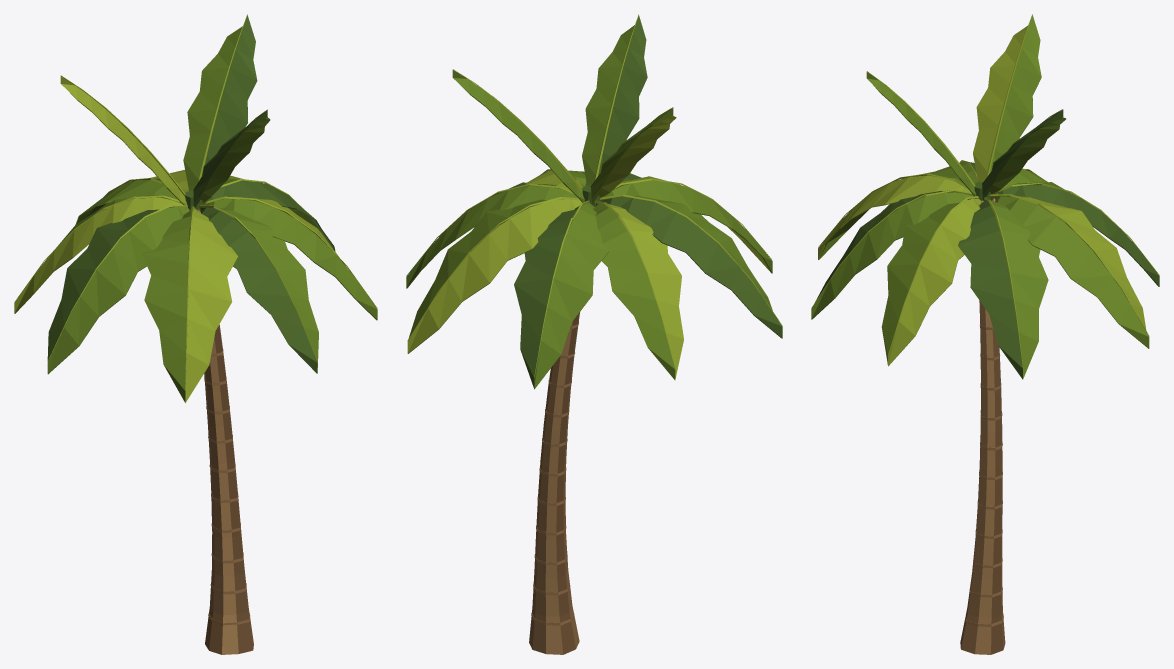
The model's file is palm_a.glb.
3 renders of one model, left to right at view 1: azimuth 30°, elevation 25°; view 2: azimuth 150°, elevation 25°; view 3: azimuth 270°, elevation 25°, orthographic. The views are drawn at different scales.
Visible parts, largest first — view 1: body; view 2: body; view 3: body.
Boxes of the visible parts, <box> form: body: <box>14,14,377,654</box>; body: <box>406,14,782,654</box>; body: <box>811,14,1159,654</box>.
Size of the model in its own units: 5.07 by 8.6 by 4.82.
